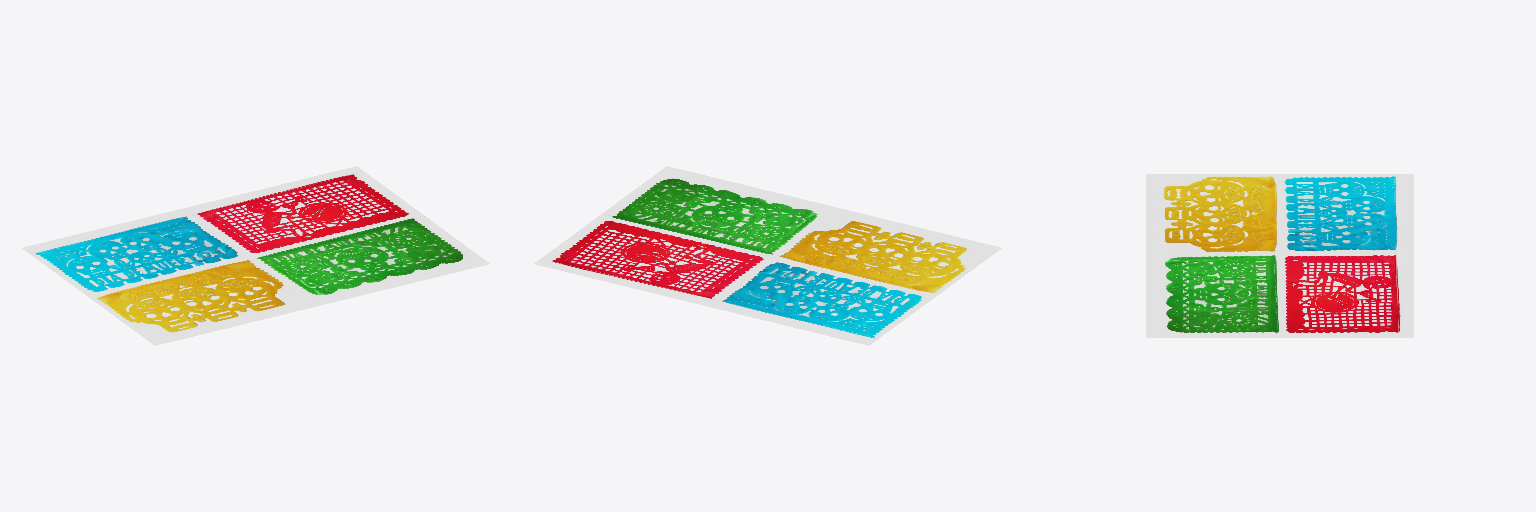
The picture shows the model from 3 angles: view 1: azimuth 30°, elevation 25°; view 2: azimuth 150°, elevation 25°; view 3: azimuth 270°, elevation 25°; orthographic projection.
Parts seen in each view (by area): view 1: Plane001; view 2: Plane001; view 3: Plane001.
Boxes of the visible parts, x1,y1,x2,y2 form: Plane001: [22, 166, 489, 345]; Plane001: [534, 166, 1001, 345]; Plane001: [1146, 174, 1413, 337].
Size of the model in its own units: 145 by 0 by 99.93.
1 materials, 1 textured.